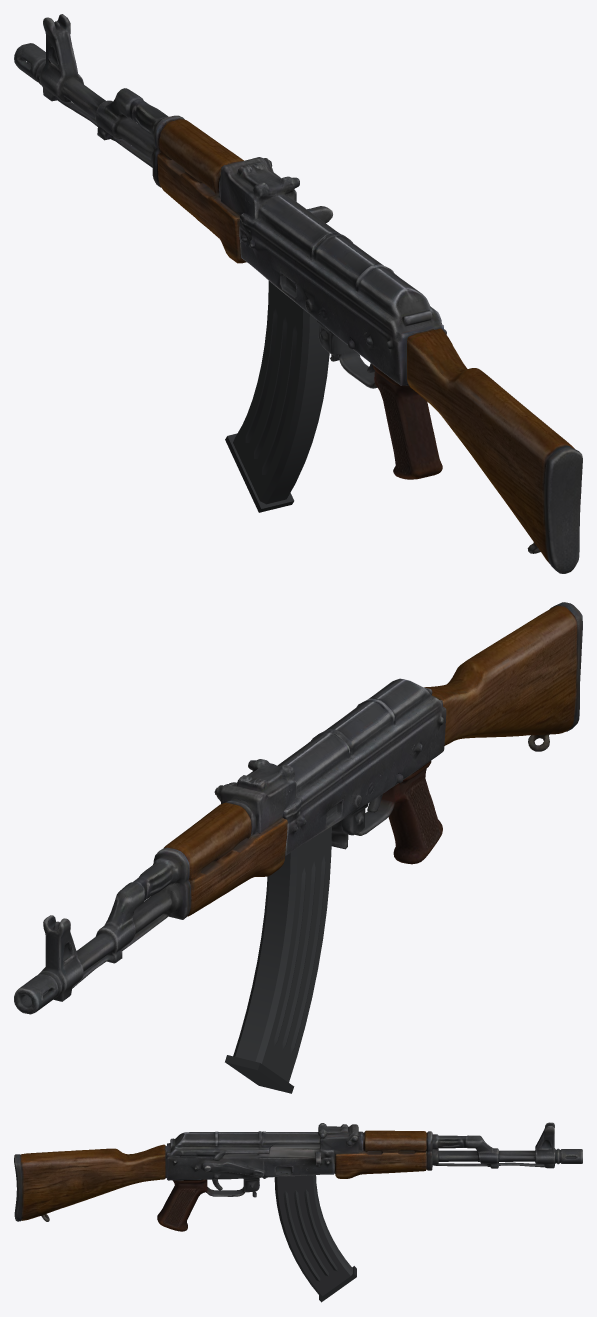
The picture shows the model from 3 angles, top to bottom: view 1: azimuth 30°, elevation 25°; view 2: azimuth 150°, elevation 25°; view 3: azimuth 270°, elevation 25°; orthographic projection. The views are drawn at different scales.
Visible parts, largest first — view 1: Body, Magazine; view 2: Body, Magazine; view 3: Body, Magazine.
Part boxes in pixels (x1,y1,x2,y2): Body: (14, 14, 582, 573); Magazine: (225, 281, 329, 512); Body: (14, 602, 582, 1014); Magazine: (225, 827, 331, 1093); Body: (14, 1122, 582, 1231); Magazine: (274, 1175, 356, 1302).
Bounding box in the file's own units: 0.0764 × 0.2971 × 0.8804.
Materials: 3 (1 with a texture image).
